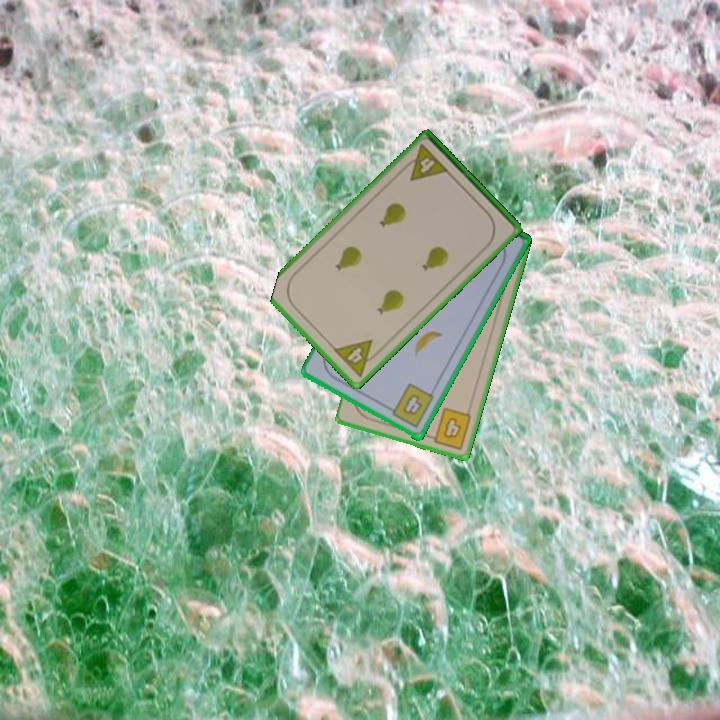4b: (383, 380, 437, 432), (424, 404, 475, 452)
4p: (330, 336, 384, 380), (398, 141, 452, 184)
